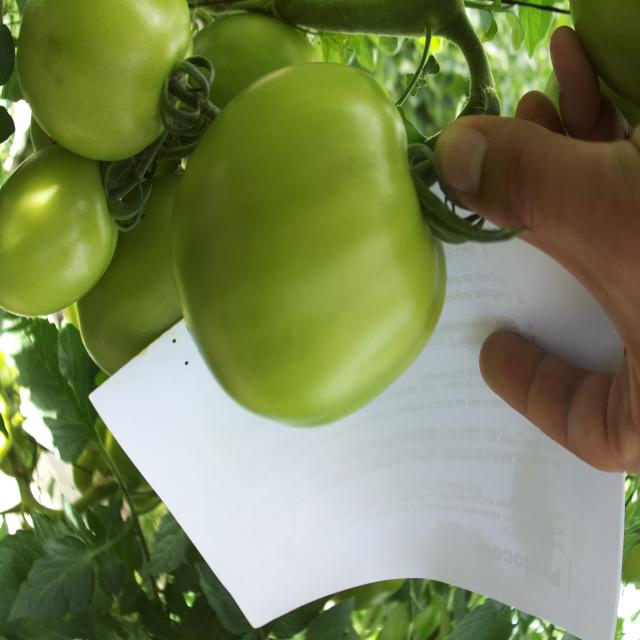yesil: (166, 61, 451, 440)
